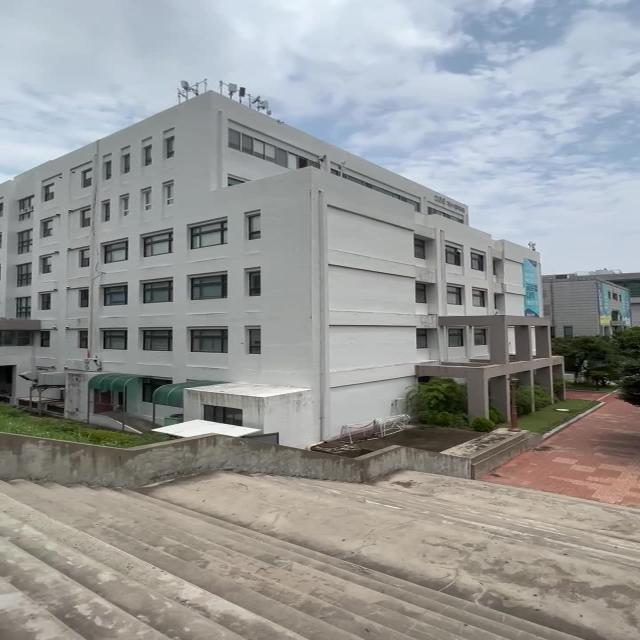building: (11, 85, 544, 416)
